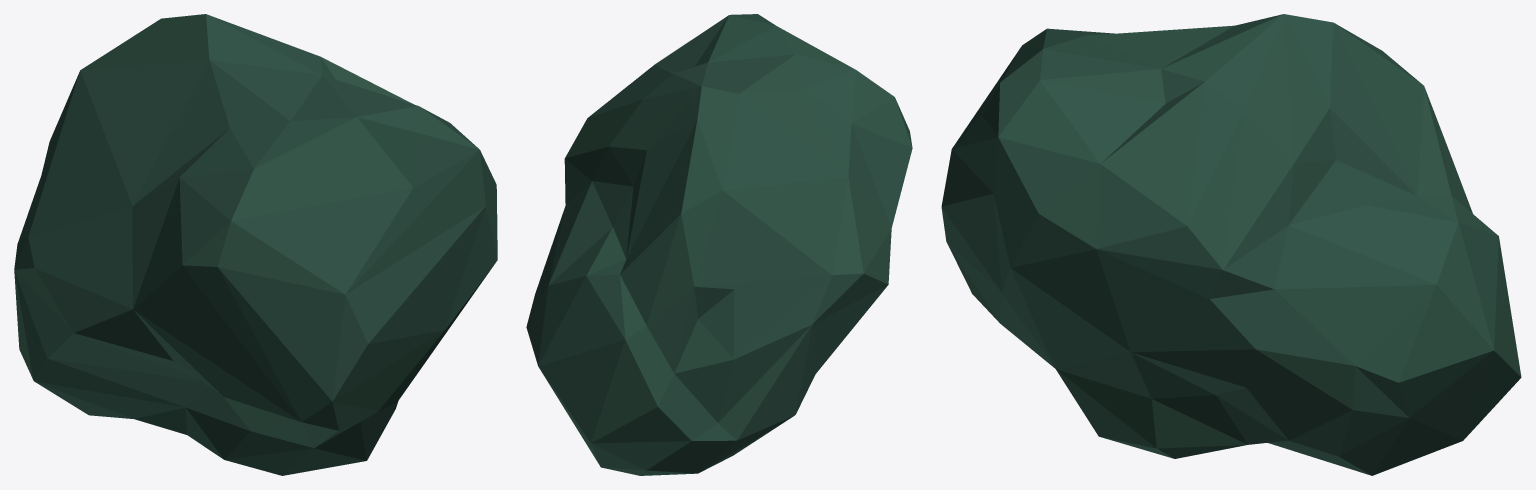
Rendered from SM_large_rock_35.fbx.
3 renders of one model, left to right at view 1: azimuth 30°, elevation 25°; view 2: azimuth 150°, elevation 25°; view 3: azimuth 270°, elevation 25°, orthographic. The views are drawn at different scales.
Visible parts, largest first — view 1: large_rock_35; view 2: large_rock_35; view 3: large_rock_35.
Boxes of the visible parts, left/top/right/bottom form: large_rock_35: left=14, top=14, right=497, bottom=475; large_rock_35: left=526, top=14, right=912, bottom=475; large_rock_35: left=941, top=14, right=1521, bottom=475.
Bounding box in the file's own units: 47.35 × 50.76 × 62.18.
